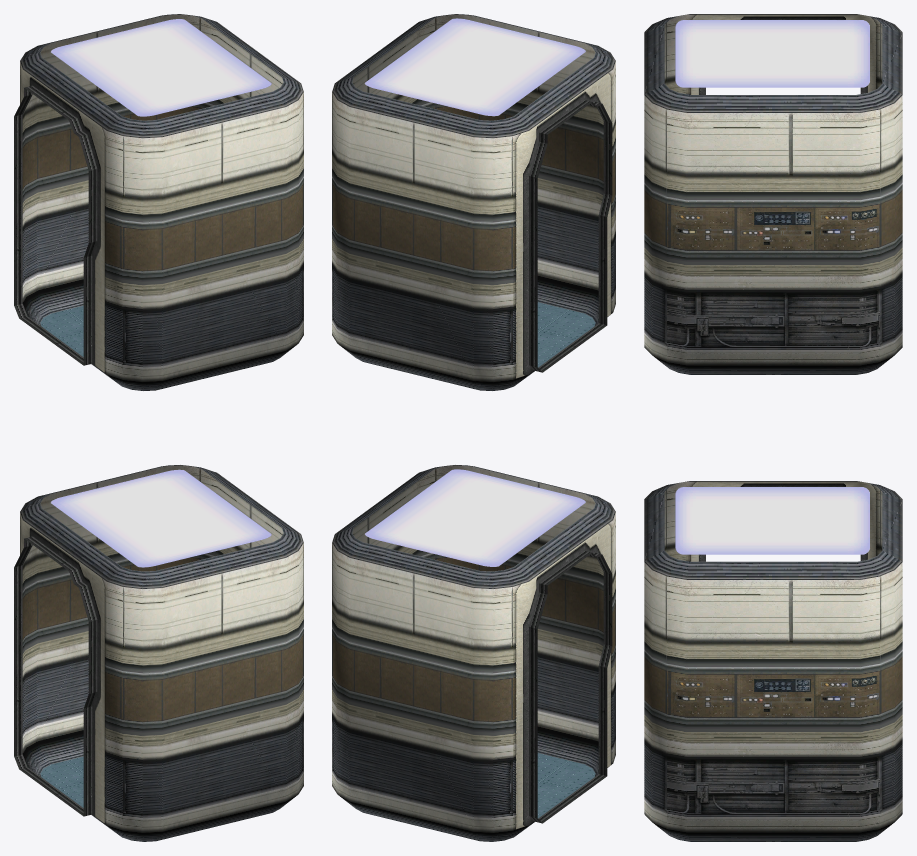
File: sorosuub_space_yacht_r10_elevator1_mesh_r10.fbx
3 renders of one model, left to right at view 1: azimuth 30°, elevation 25°; view 2: azimuth 150°, elevation 25°; view 3: azimuth 270°, elevation 25°, orthographic. The views are drawn at different scales.
Visible parts, largest first — view 1: mesh_node; view 2: mesh_node; view 3: mesh_node.
Part boxes in pixels (bbox=[...]): mesh_node: bbox=[14, 14, 303, 841]; mesh_node: bbox=[332, 14, 615, 841]; mesh_node: bbox=[644, 14, 902, 841].
Bounding box in the file's own units: 2.36 × 8 × 2.51.
